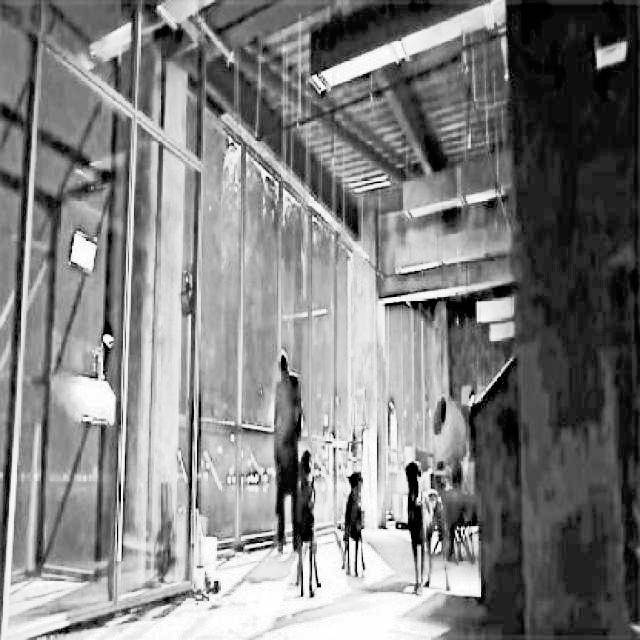Dog: (402, 450, 453, 607), (292, 436, 323, 610), (340, 462, 368, 584)
